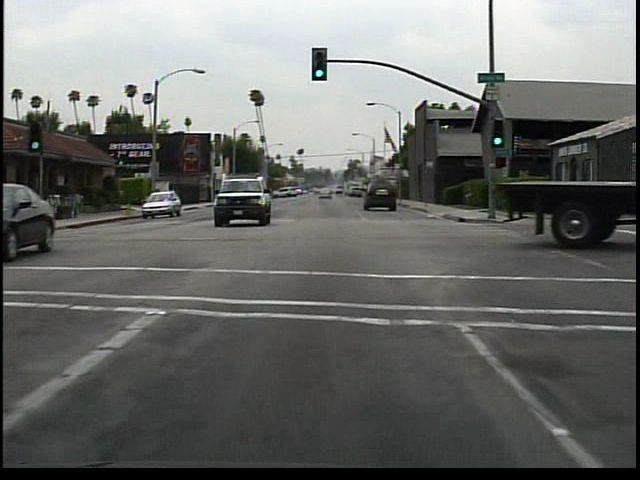person: (164, 183, 181, 206)
